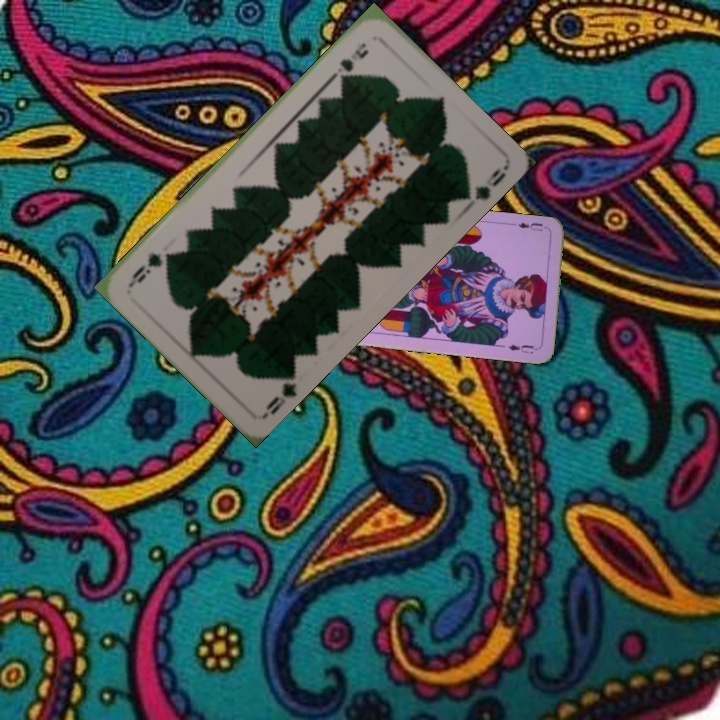EU: (510, 219, 550, 234)
G9: (259, 365, 299, 420), (328, 38, 371, 84)
